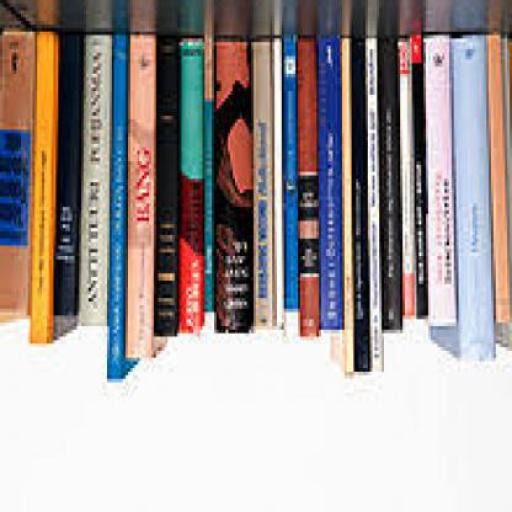paper: (456, 35, 498, 365), (133, 32, 170, 362), (219, 39, 259, 340), (428, 31, 460, 333), (2, 28, 32, 323), (182, 38, 209, 336), (84, 31, 110, 327), (321, 35, 345, 333), (381, 38, 405, 336), (256, 38, 279, 334), (352, 35, 372, 375), (160, 39, 182, 340), (488, 38, 510, 330), (368, 35, 386, 379), (39, 28, 58, 348), (112, 35, 128, 382), (60, 32, 79, 322), (303, 35, 321, 340), (342, 39, 358, 378), (274, 42, 290, 340), (414, 32, 430, 322), (402, 35, 418, 319), (284, 38, 300, 316), (204, 42, 219, 319)
